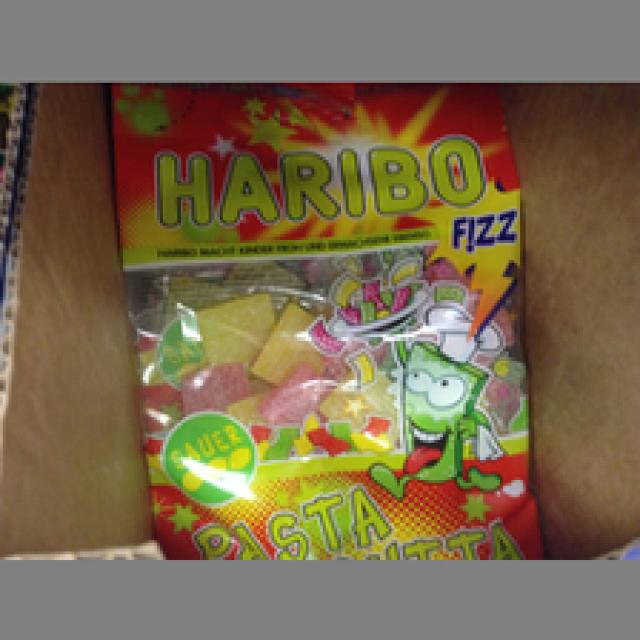groceries: (109, 86, 532, 557)
